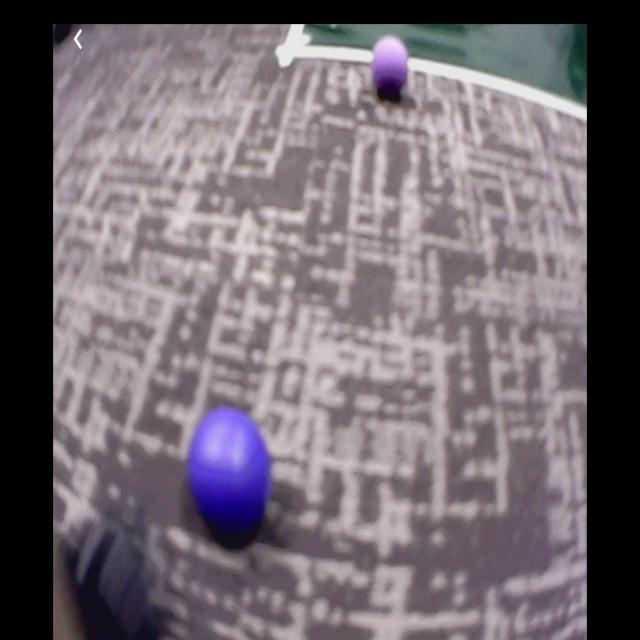ball: (190, 405, 270, 533), (373, 35, 408, 95)
